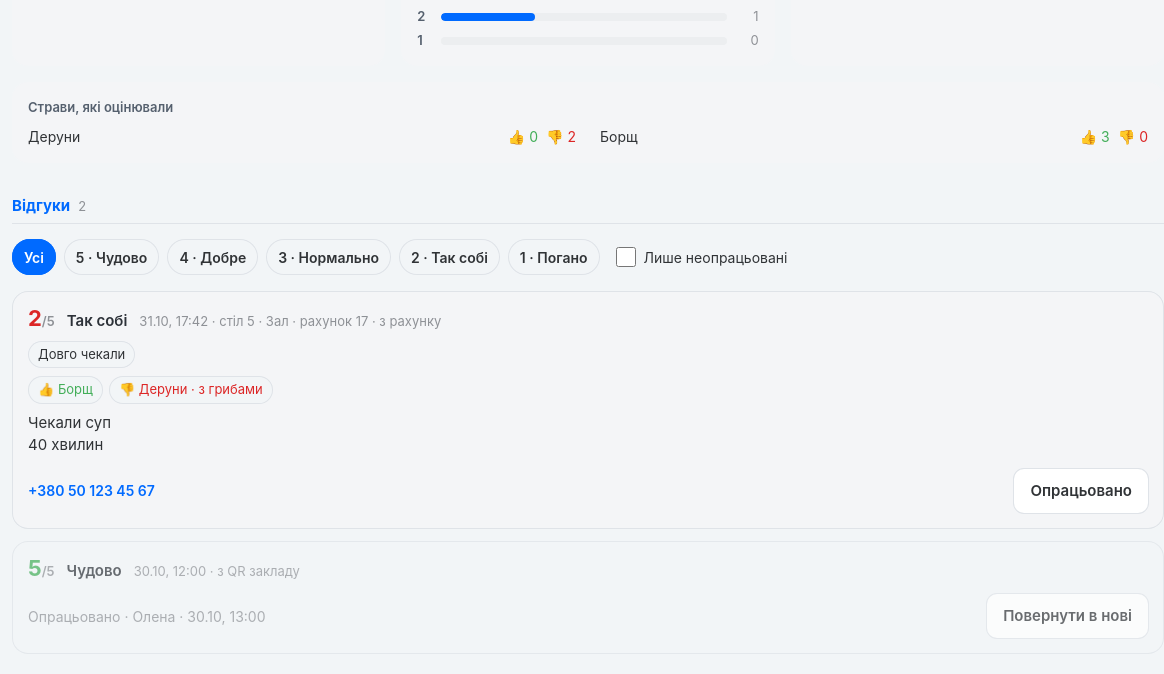
Test: ReviewsPage › marks a row handled with one POST and shows the answer, lowering the waiting count
(page scrolled)
Click the button "Опрацьовано".
click(1081, 491)  # box [1014,469,1148,513]
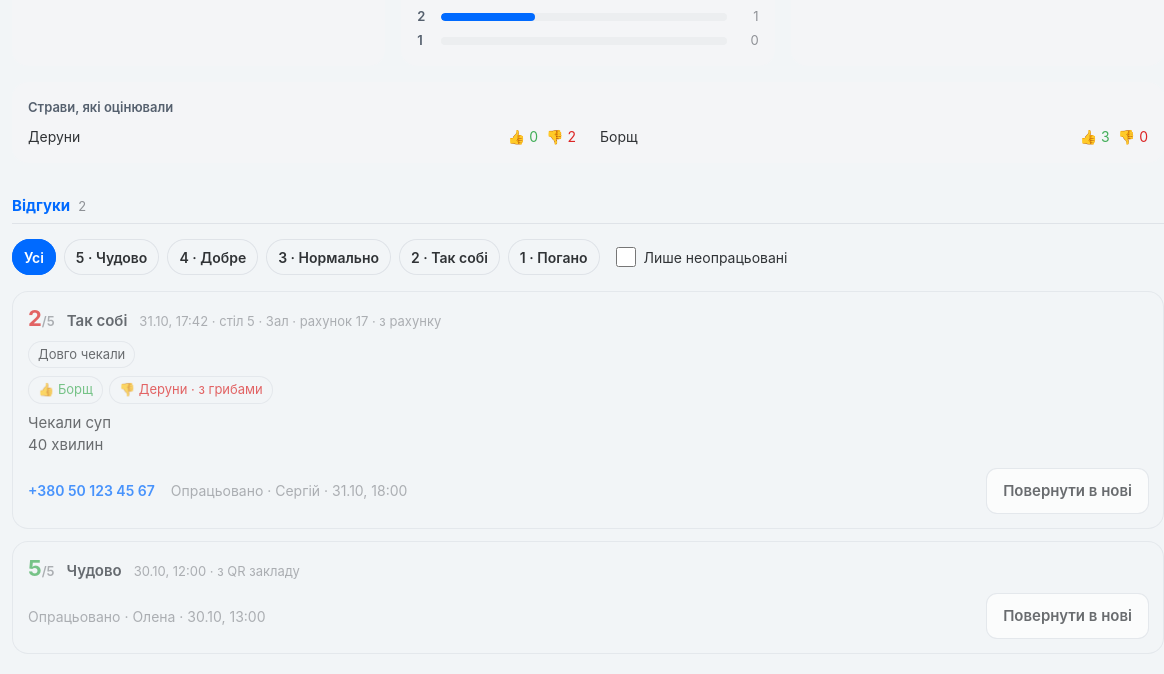
Result: the text "Опрацьовано · Сергій · 31.10, 18:00" is shown at [171,480,407,501]
Result: the button "Повернути в нові" in the row of "31.10, 18:00" is shown at [987,469,1148,513]
